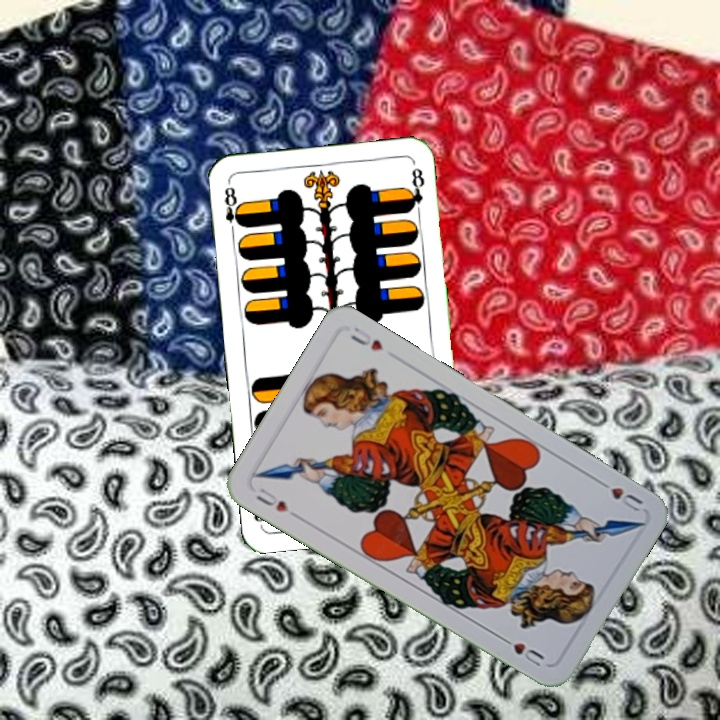E8: (221, 183, 246, 238)
HU: (593, 475, 646, 516), (252, 483, 291, 515)
